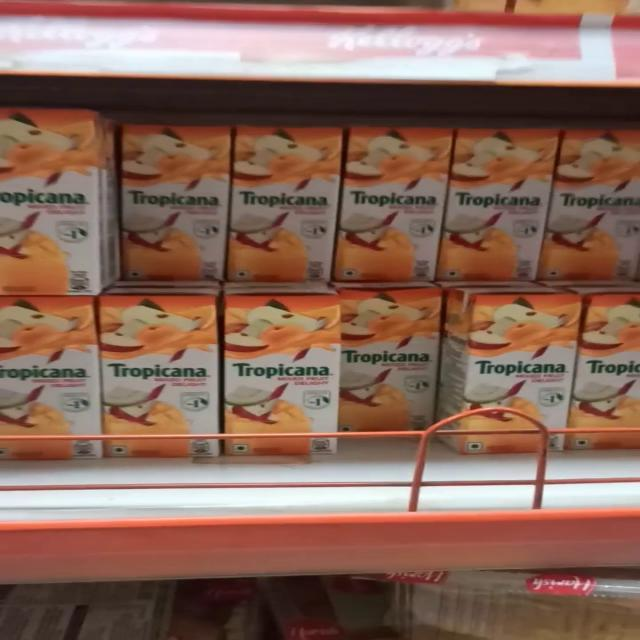Tropicana: (220, 290, 338, 468), (98, 294, 217, 462), (472, 281, 578, 462), (230, 116, 348, 272), (342, 282, 454, 440), (107, 124, 220, 270), (344, 120, 446, 279), (452, 122, 557, 276)
